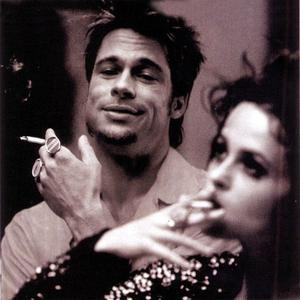cigarette: (20, 136, 49, 146), (186, 199, 218, 208)
